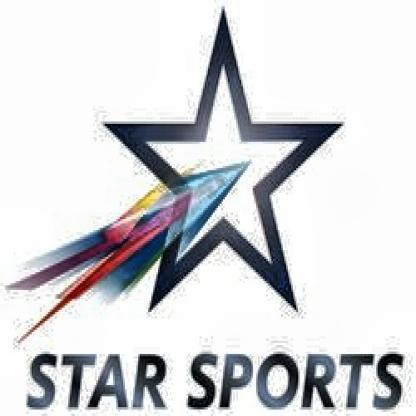Star Sports: (8, 0, 411, 416)
